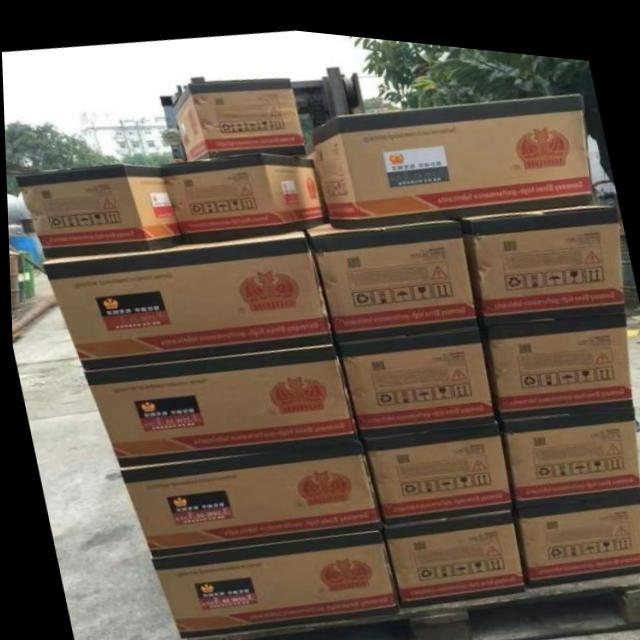box: (41, 221, 334, 383), (309, 81, 592, 221), (116, 432, 380, 554), (86, 348, 358, 466), (147, 521, 394, 636), (301, 209, 478, 348), (456, 190, 624, 327), (335, 329, 496, 442), (479, 312, 631, 421), (14, 160, 180, 258), (159, 147, 327, 240), (360, 422, 514, 519), (376, 500, 522, 599), (495, 405, 638, 498), (506, 480, 640, 576), (172, 71, 307, 157)
